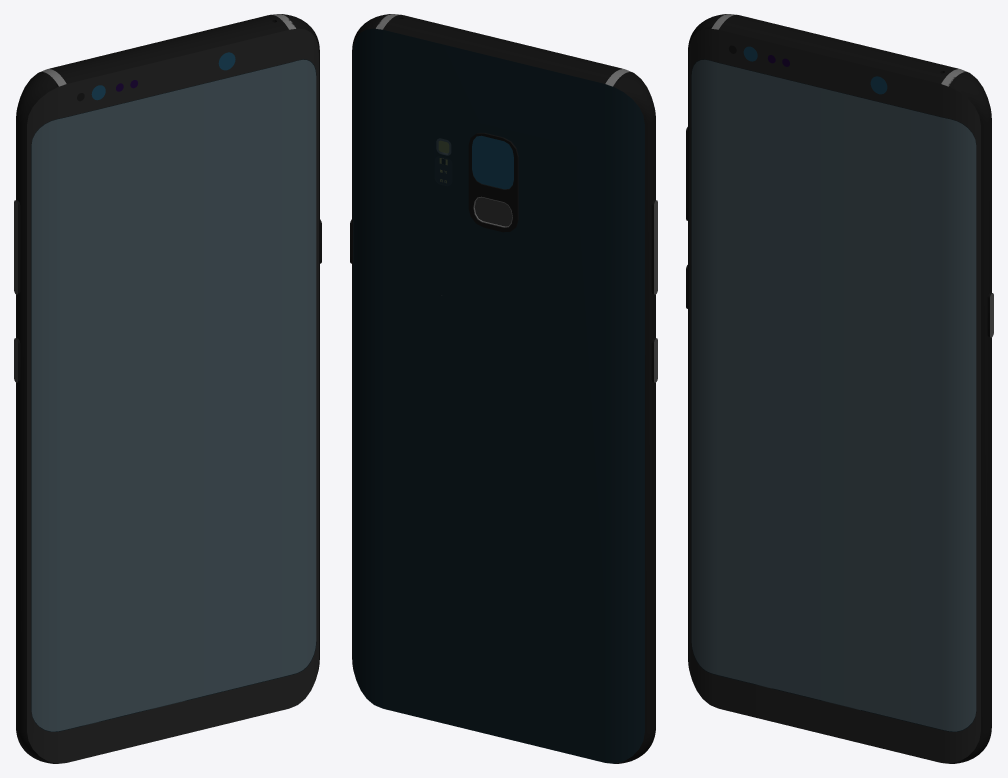
Rendered from Samsung Galaxy S9.fbx.
3 renders of one model, left to right at view 1: azimuth 30°, elevation 25°; view 2: azimuth 150°, elevation 25°; view 3: azimuth 330°, elevation 25°, orthographic.
Parts seen in each view (by area): view 1: object.001, object.009, object.005, object.003, object.015; view 2: object.003, object.001, object.004, object.002, object.015; view 3: object.001, object.009, object.005, object.003.
Part boxes in pixels (x1,y1,x2,y2): object.001: [31, 59, 316, 731]; object.009: [32, 60, 315, 731]; object.005: [27, 28, 318, 763]; object.003: [16, 14, 321, 763]; object.015: [14, 200, 17, 382]; object.003: [350, 14, 655, 763]; object.001: [353, 28, 644, 763]; object.004: [472, 135, 513, 189]; object.002: [474, 197, 512, 226]; object.015: [654, 200, 657, 382]; object.001: [691, 59, 976, 731]; object.009: [692, 60, 975, 731]; object.005: [689, 28, 980, 763]; object.003: [686, 14, 991, 763].
Size of the model in its own units: 68.8 by 149 by 8.21.
